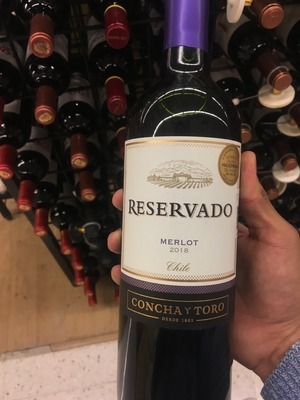reservado merlot: (108, 11, 261, 394)
